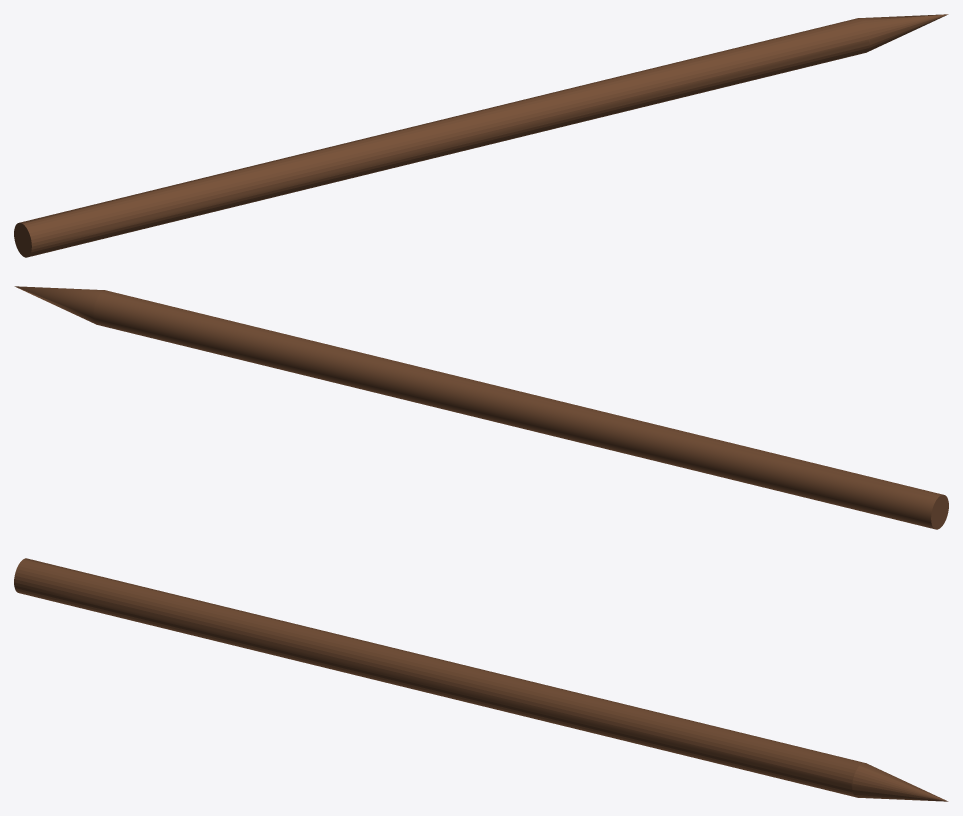
Rendered from Arrow 1.fbx.
3 views of the same model, one above another, from view 1: azimuth 30°, elevation 25°; view 2: azimuth 150°, elevation 25°; view 3: azimuth 330°, elevation 25° (orthographic).
Parts seen in each view (by area): view 1: Cylinder; view 2: Cylinder; view 3: Cylinder.
Part boxes in pixels (<box>): Cylinder: <box>14,14,948,257</box>; Cylinder: <box>14,286,948,529</box>; Cylinder: <box>14,558,948,801</box>.
Bounding box in the file's own units: 227 × 7.62 × 7.62.
